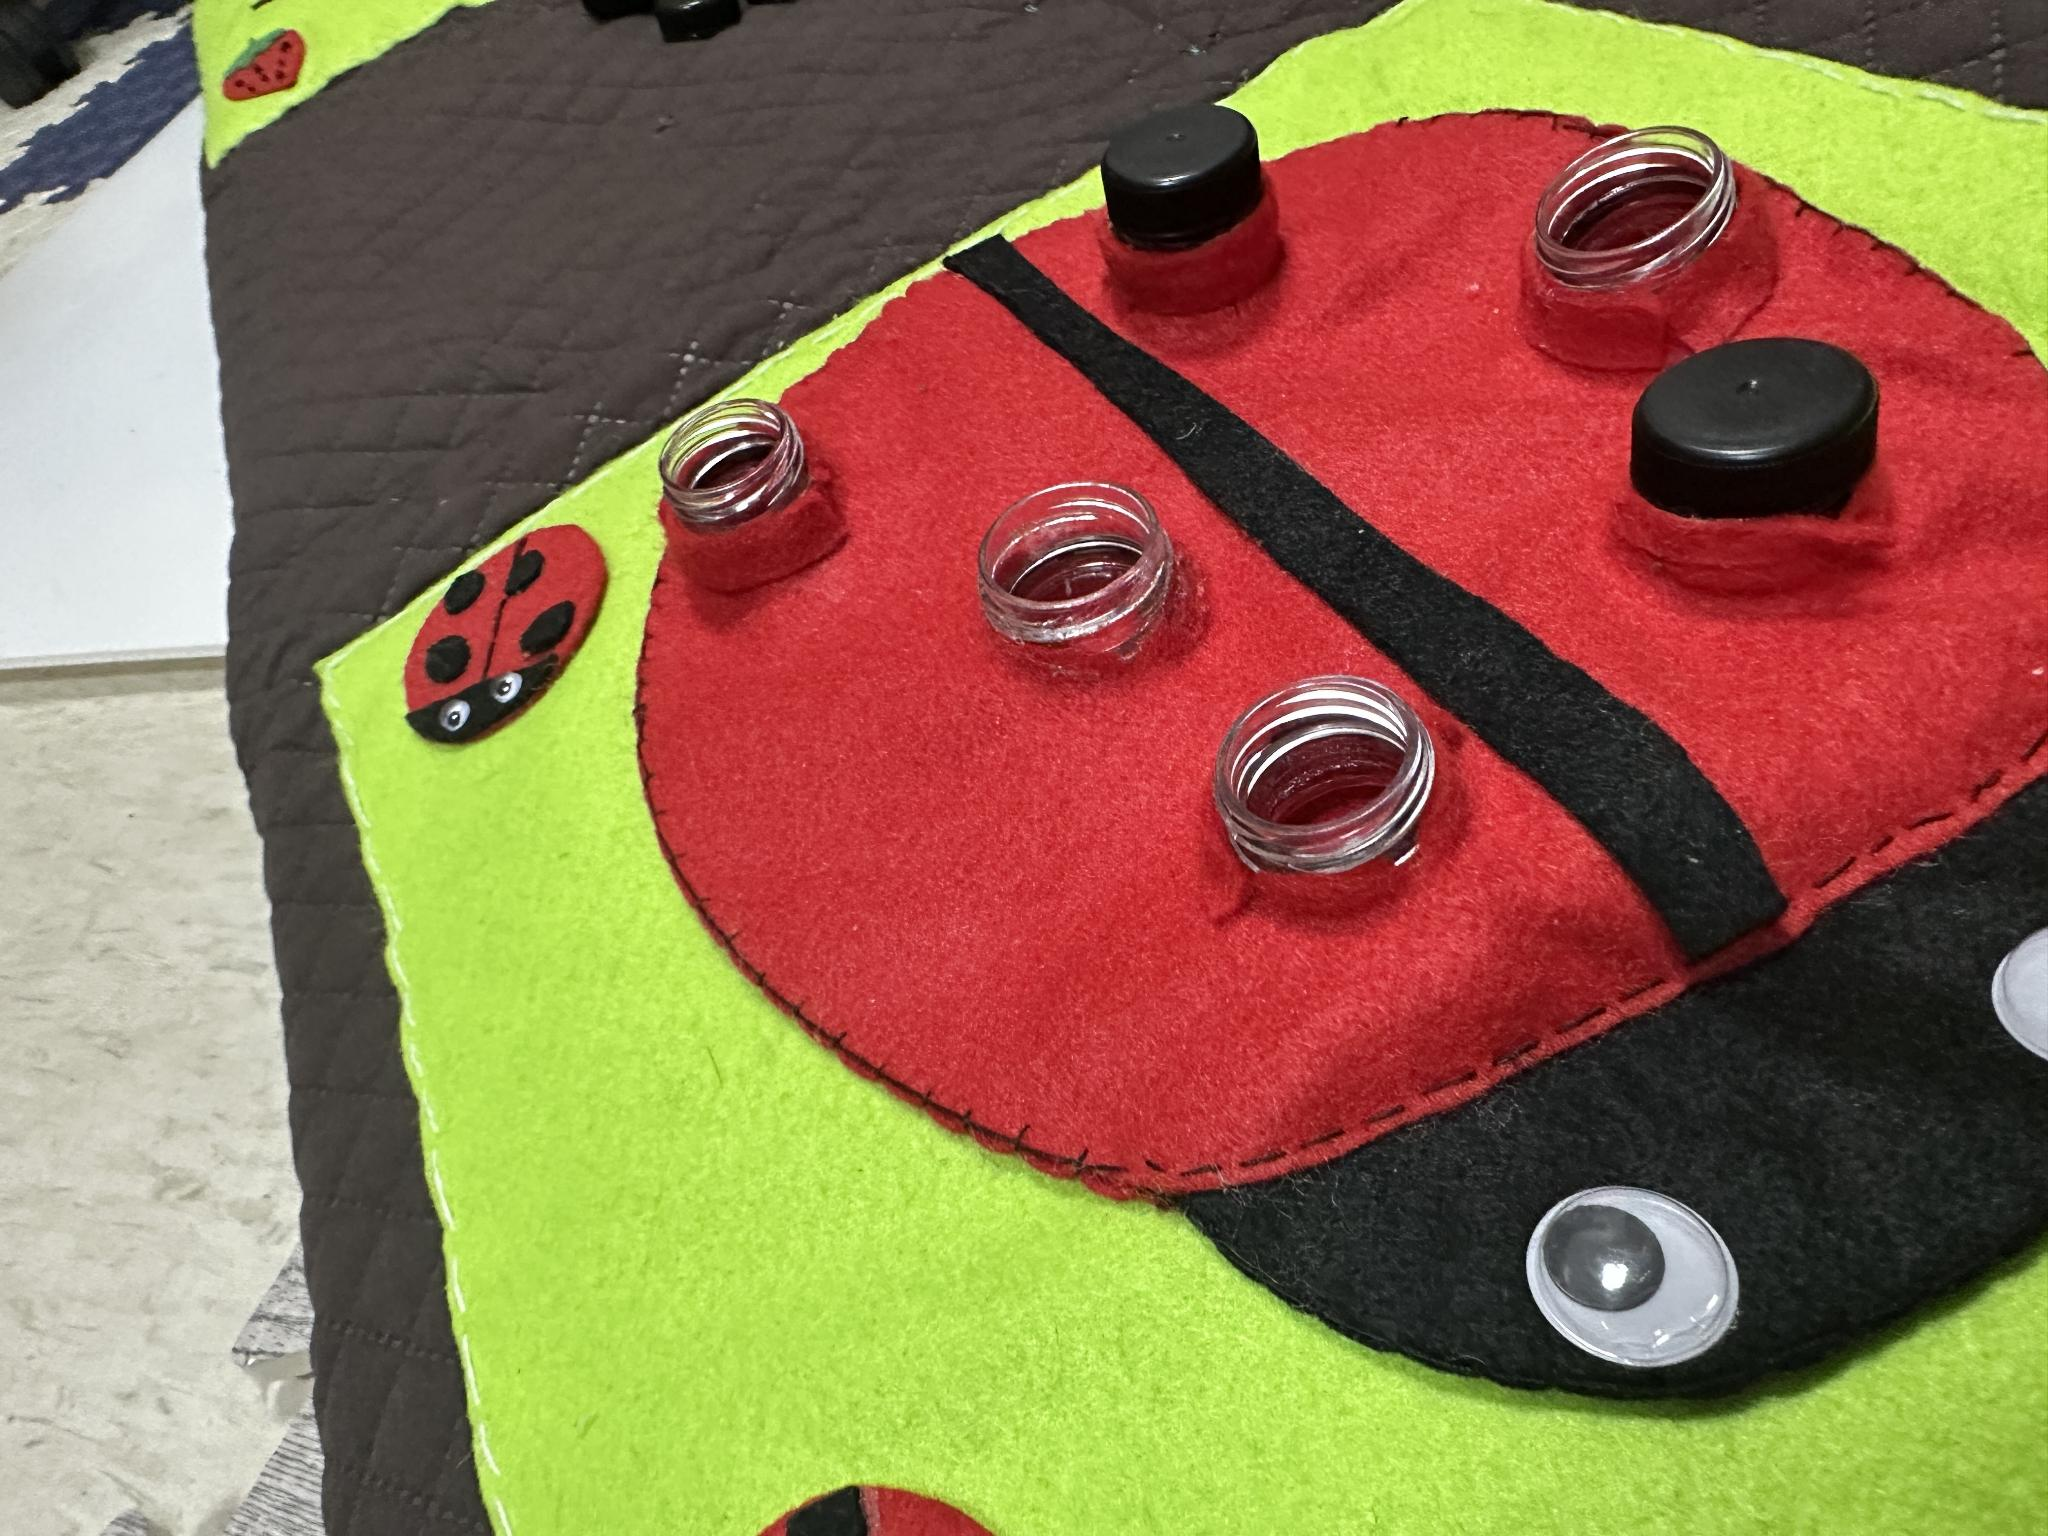cap_ok: (1603, 323, 1919, 597), (1072, 87, 1317, 332)
